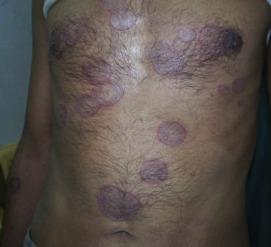annular lichen planus: (89, 118, 201, 230), (93, 3, 208, 45), (60, 53, 134, 116)
